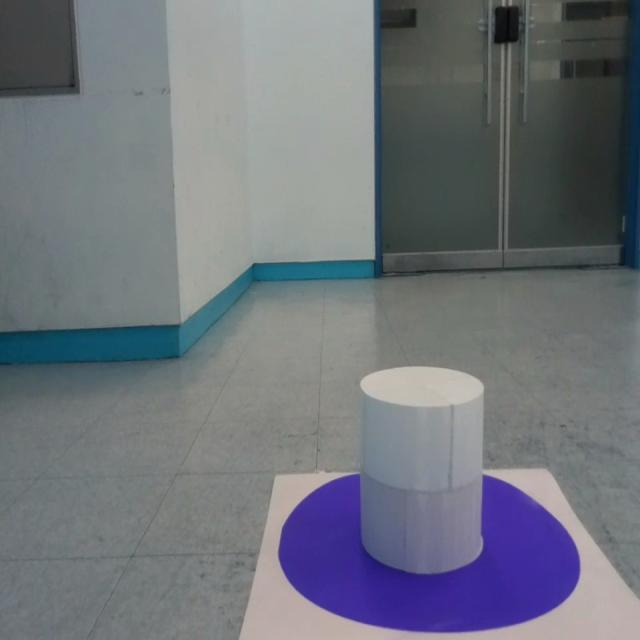cylinder: (359, 366, 486, 574)
